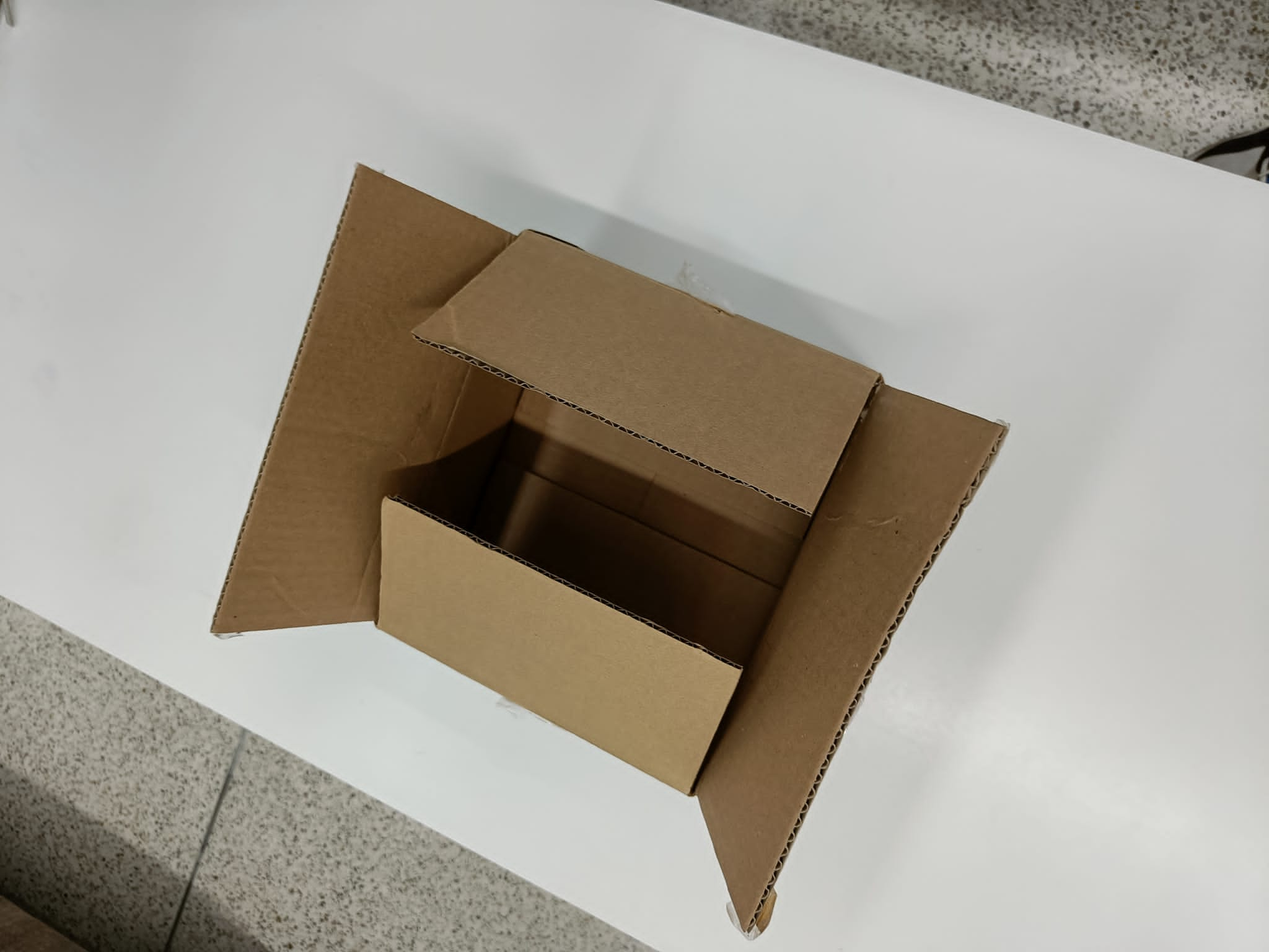box: (210, 163, 1008, 940)
crushed: (208, 160, 1008, 939)
